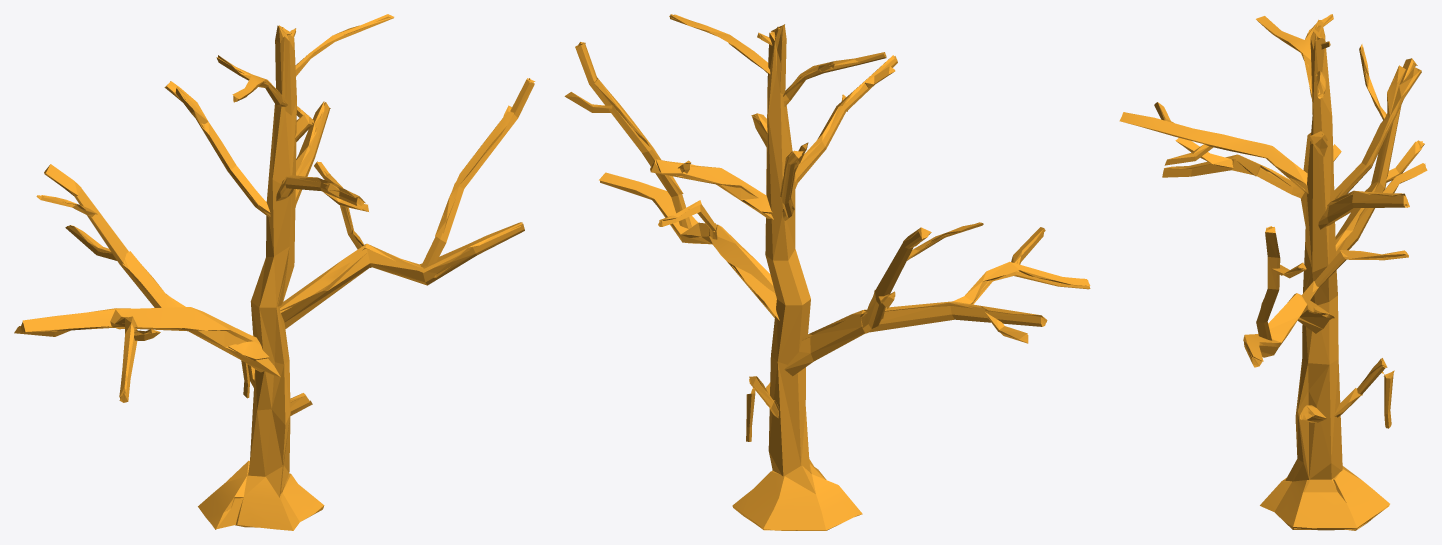
File: SM_Tree_Oak_Dead_A_Snow.fbx
3 renders of one model, left to right at view 1: azimuth 30°, elevation 25°; view 2: azimuth 150°, elevation 25°; view 3: azimuth 270°, elevation 25°, orthographic. The views are drawn at different scales.
Parts seen in each view (by area): view 1: tree-oak-dead-a-snow; view 2: tree-oak-dead-a-snow; view 3: tree-oak-dead-a-snow.
Part boxes in pixels (x1,y1,x2,y2): tree-oak-dead-a-snow: (14,14,535,530); tree-oak-dead-a-snow: (564,14,1090,530); tree-oak-dead-a-snow: (1119,14,1427,530).
Bounding box in the file's own units: 8.64 × 8.11 × 4.58.
